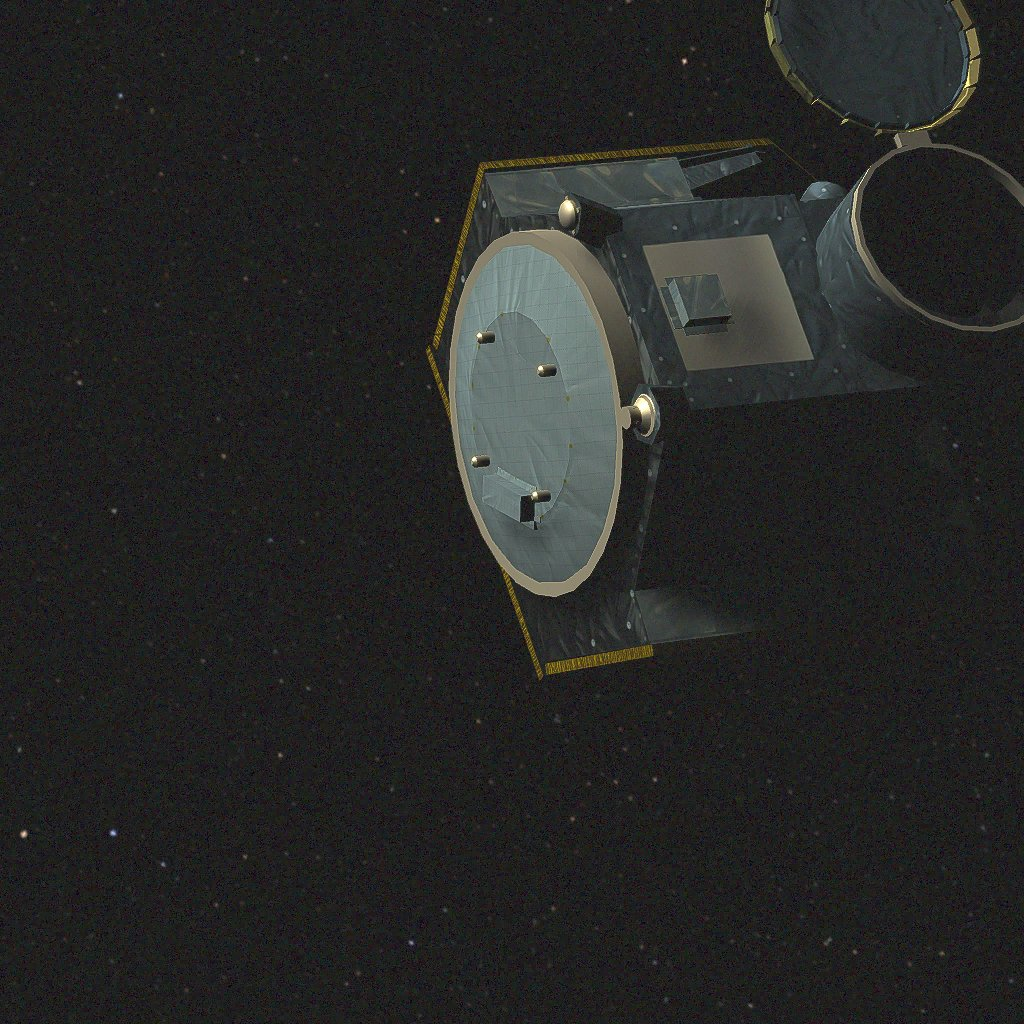cheops: (450, 69, 1010, 750)
